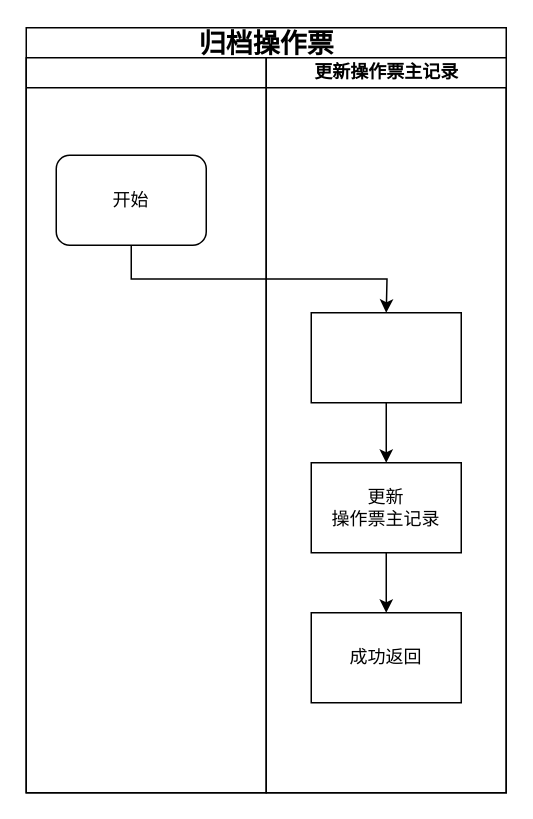
This 533x819 diagram has some shape labels left out. Here are the shapes that lost their labels. From the top down, the box of each, then its label:
(310, 311, 461, 403): 转换请求参数为 操作票主记录数据对象
(25, 56, 266, 793): 接收请求
